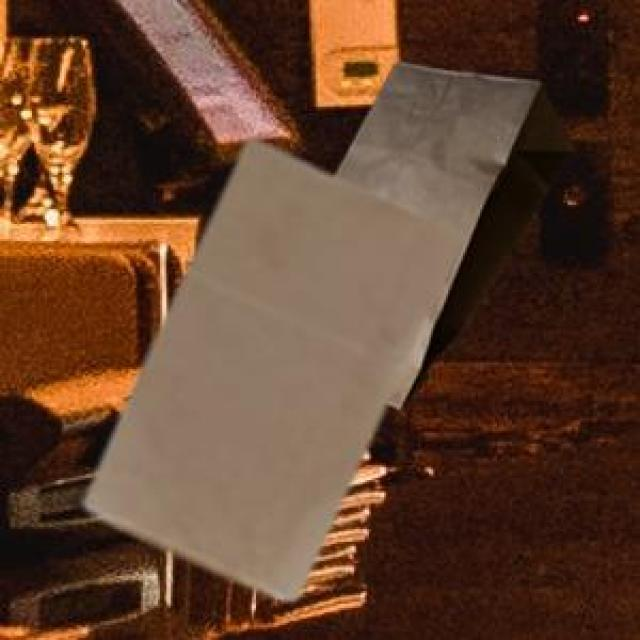paper: (81, 134, 454, 595), (329, 58, 570, 405)
